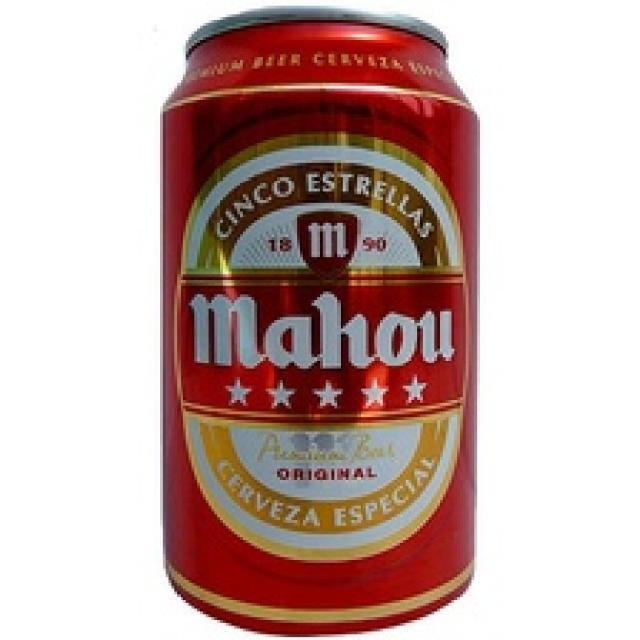recyclable: (156, 6, 480, 636)
